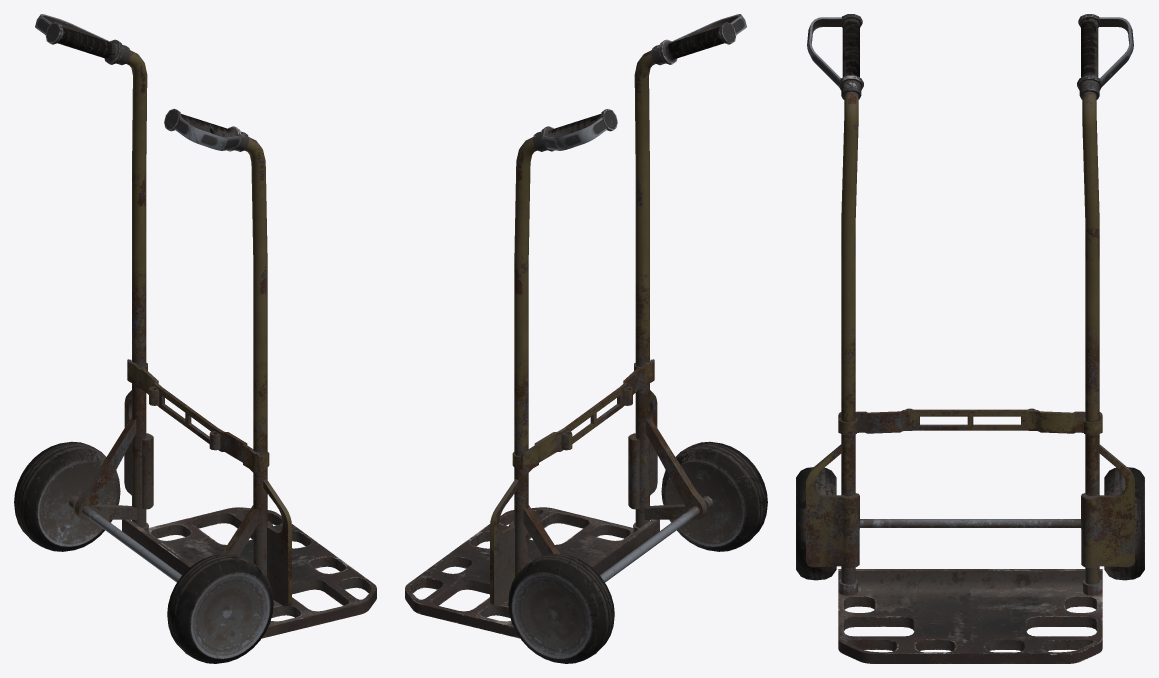
The model's file is SM_Trolley_01.glb.
3 renders of one model, left to right at view 1: azimuth 30°, elevation 25°; view 2: azimuth 150°, elevation 25°; view 3: azimuth 270°, elevation 25°, orthographic.
Visible parts, largest first — view 1: SM_Trolley_01; view 2: SM_Trolley_01; view 3: SM_Trolley_01.
Part boxes in pixels (x1=…): SM_Trolley_01: x1=14, y1=14, x2=376, y2=663; SM_Trolley_01: x1=405, y1=14, x2=767, y2=663; SM_Trolley_01: x1=796, y1=14, x2=1144, y2=663.
Bounding box in the file's own units: 0.5013 × 1.13 × 0.6508.
1 material, 1 textured.
